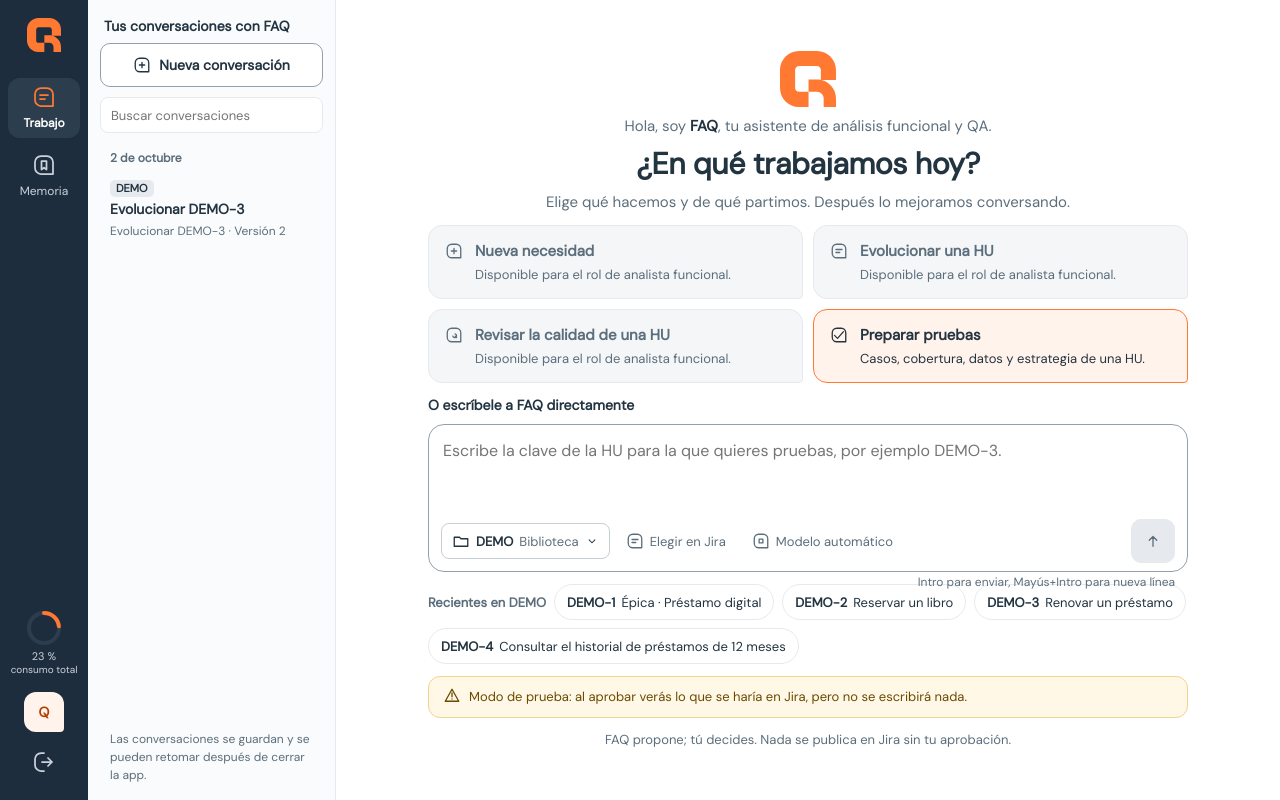
QA 3 · Iterar la suite › cabecera, panel ancho con el distintivo de cobertura y las cuatro pestañas
This screenshot has width=1280, height=800.
Expected: the button with aria-label "Proyecto de Jira: DEMO" is shown, top-left (441, 523), bottom-right (610, 559)
Click the text box.
click(808, 475)  # box top-left (441, 437), bottom-right (1175, 513)
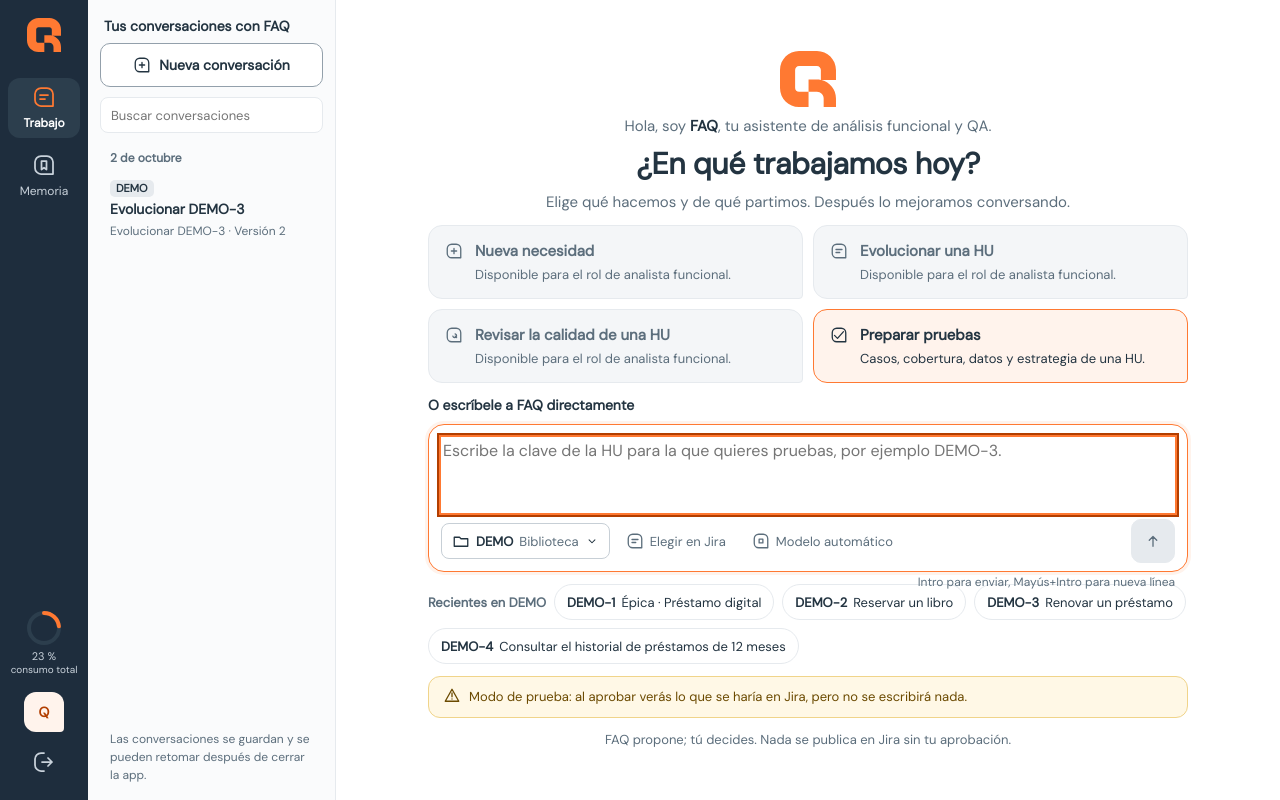
Type keys "DEMO-3"
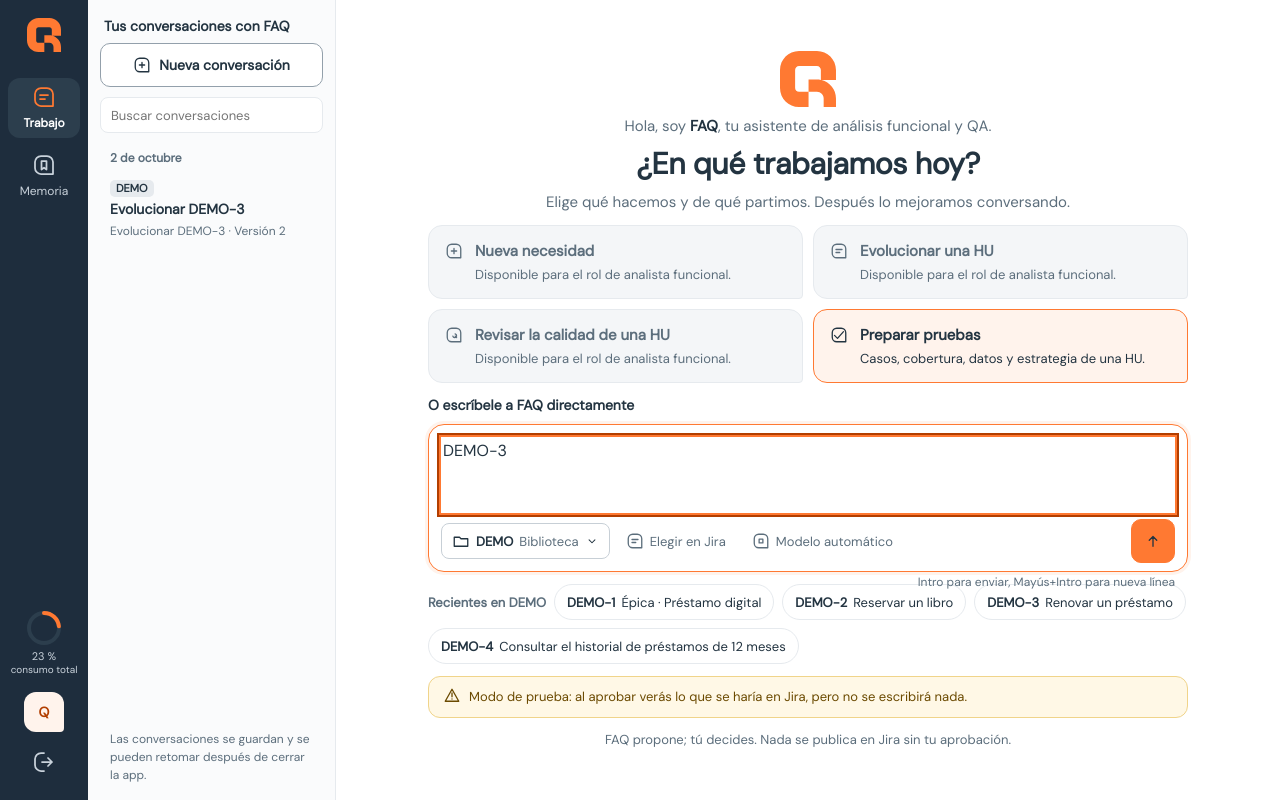
Click the button named "Continuar".
click(1153, 541)  # box top-left (1131, 519), bottom-right (1175, 563)
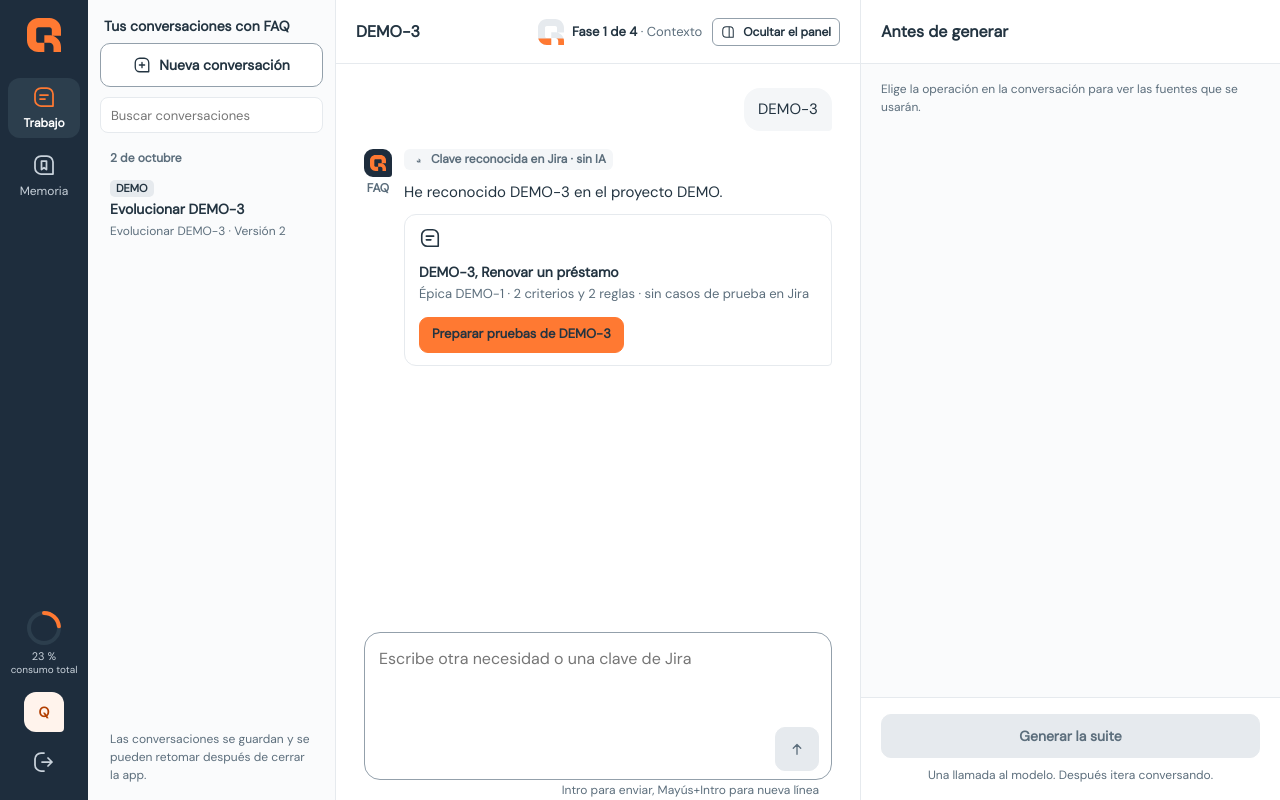
Click the button "Preparar pruebas de DEMO-3".
click(521, 335)  # box top-left (419, 317), bottom-right (624, 353)
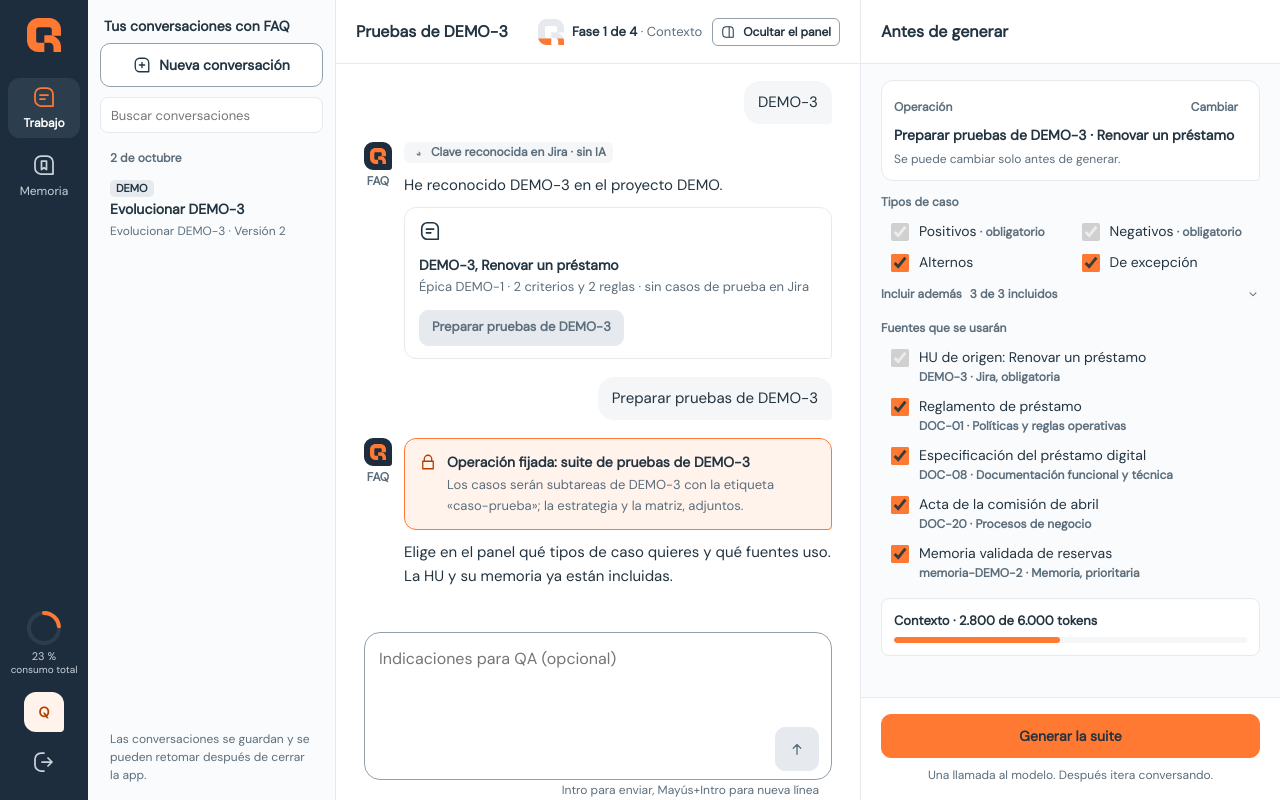
Now the checkbox labelled "HU de origen: Renovar un préstamo DEMO-3 · Jira, obligatoria" is shown, box top-left (891, 349), bottom-right (909, 367)
Click the button "Generar la suite".
click(1070, 736)  # box top-left (881, 714), bottom-right (1260, 758)
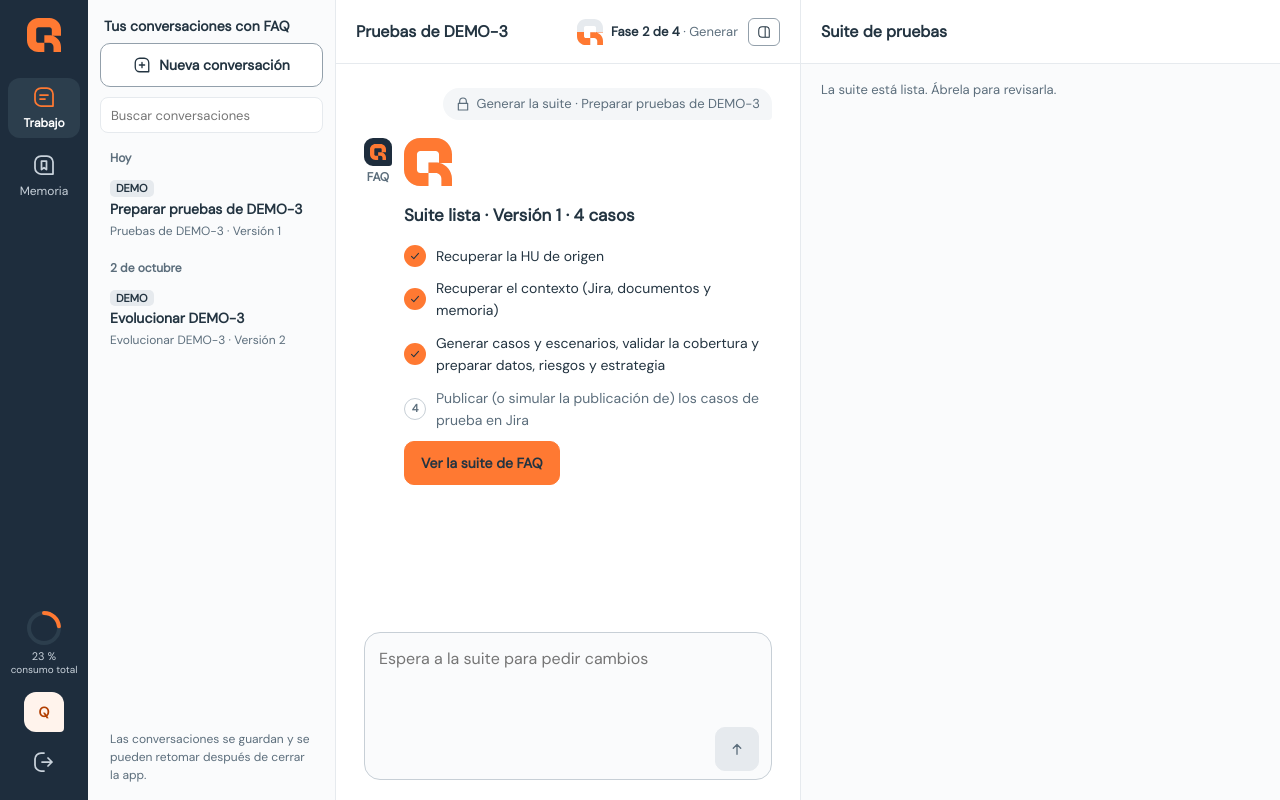
Click the button "Ver la suite de FAQ".
click(482, 463)  # box top-left (404, 441), bottom-right (560, 485)
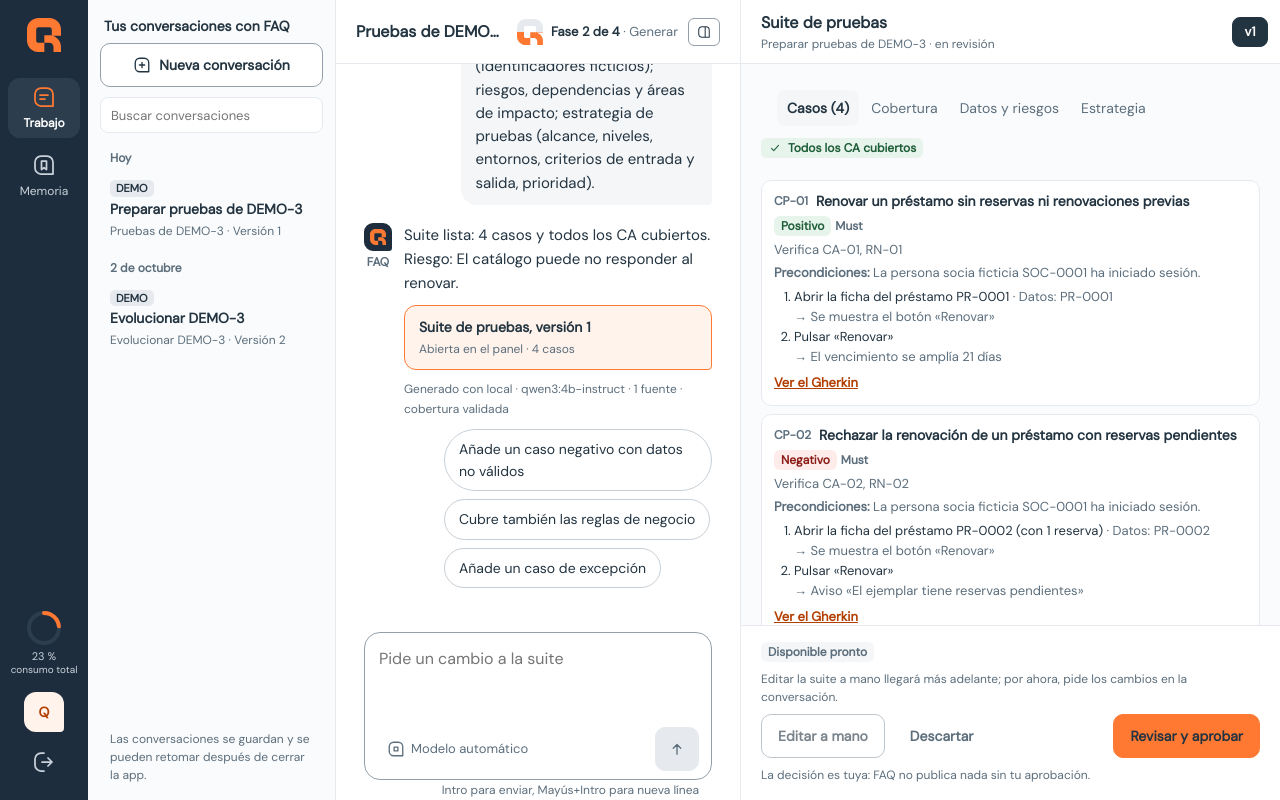
Now the heading "Pruebas de DEMO-3" is shown, box top-left (356, 20), bottom-right (507, 44)
Now the element "Suite de pruebas" is shown, box top-left (740, 0), bottom-right (1279, 799)
Now the text "Preparar pruebas de DEMO-3 · en revisión" is shown, box top-left (761, 36), bottom-right (995, 52)
